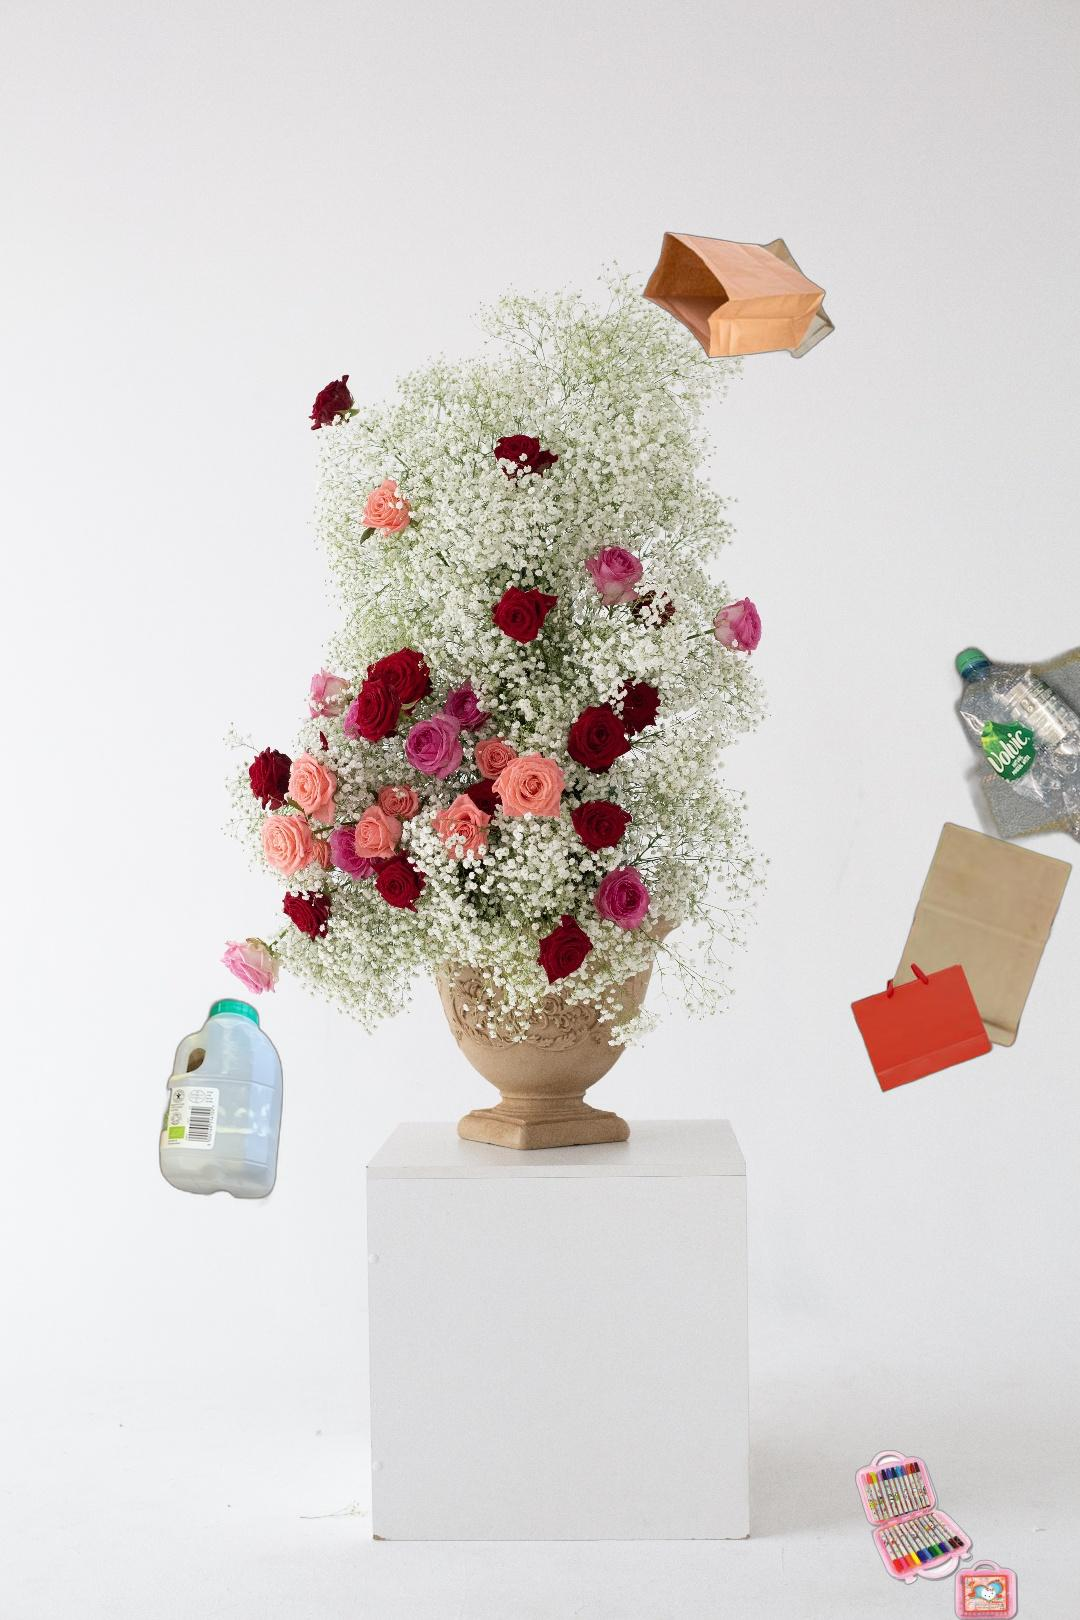paper-bag: (849, 820, 1075, 1094), (636, 231, 837, 360)
penholder: (853, 1448, 1021, 1620)
plastic-bottles: (155, 993, 528, 1620), (944, 636, 1080, 877)
